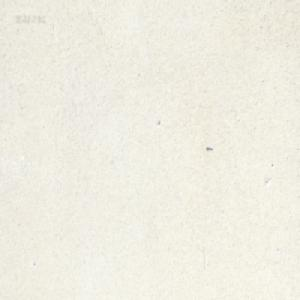Nail: (206, 145, 212, 151)
